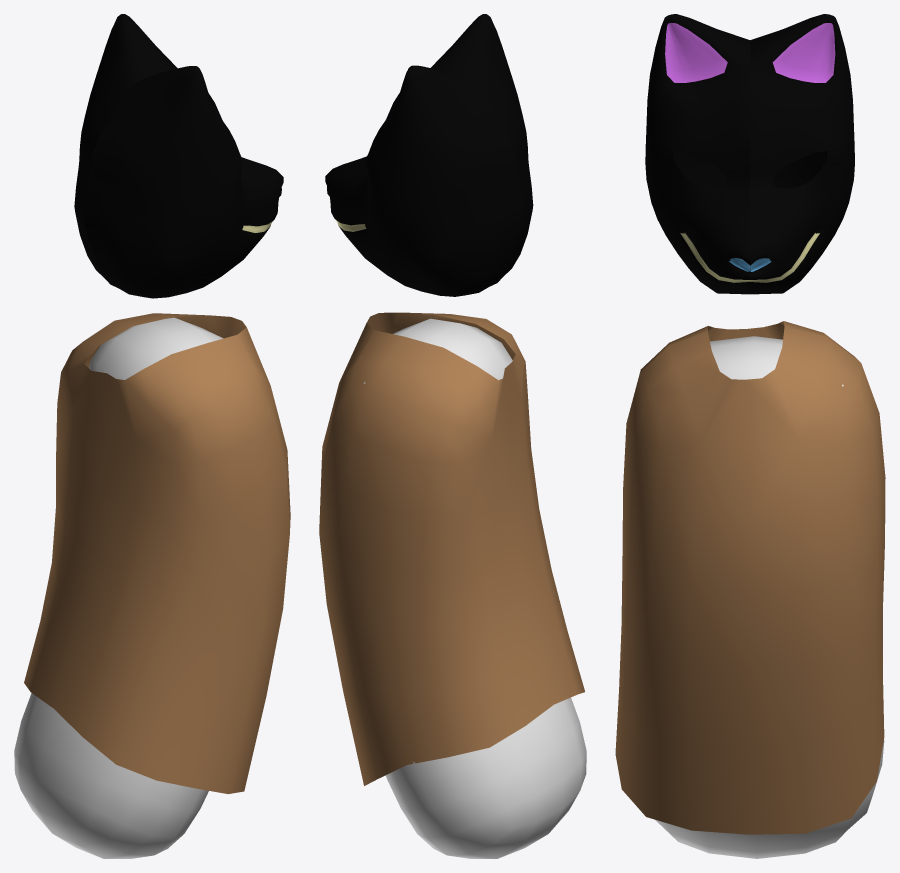
The model's file is NPC 19.fbx.
The picture shows the model from 3 angles, left to right: view 1: azimuth 30°, elevation 25°; view 2: azimuth 150°, elevation 25°; view 3: azimuth 270°, elevation 25°; orthographic projection. The views are drawn at different scales.
Parts seen in each view (by area): view 1: T-shirt.020, Mask.019, body.020; view 2: T-shirt.020, Mask.019, body.020; view 3: T-shirt.020, Mask.019, body.020.
Boxes of the visible parts, x1=… form: T-shirt.020: x1=24, y1=313, x2=290, y2=794; Mask.019: x1=74, y1=14, x2=283, y2=298; body.020: x1=14, y1=317, x2=223, y2=858; T-shirt.020: x1=319, y1=312, x2=584, y2=785; Mask.019: x1=325, y1=14, x2=533, y2=296; body.020: x1=363, y1=318, x2=586, y2=858; T-shirt.020: x1=615, y1=321, x2=885, y2=834; Mask.019: x1=645, y1=14, x2=854, y2=294; body.020: x1=655, y1=336, x2=884, y2=858.
Bounding box in the file's own units: 2.38 × 7.48 × 2.12.
